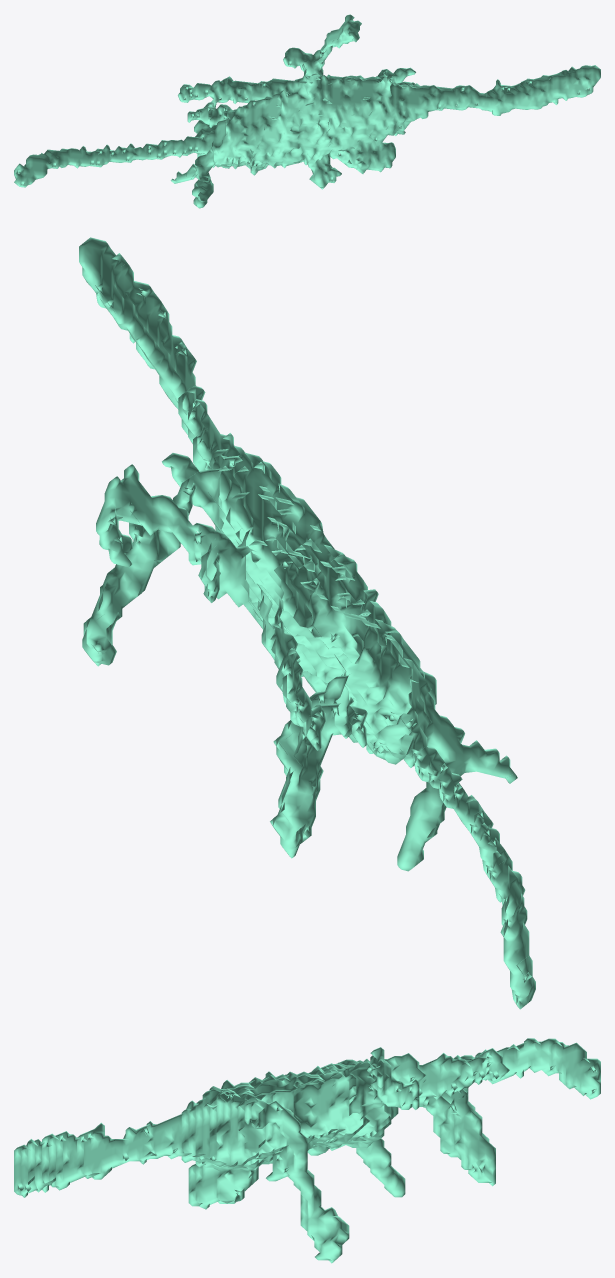
File: osteocyte_160.glb
3 renders of one model, top to bottom at view 1: azimuth 30°, elevation 25°; view 2: azimuth 150°, elevation 25°; view 3: azimuth 270°, elevation 25°, orthographic. The views are drawn at different scales.
Visible parts, largest first — view 1: osteocyte_160; view 2: osteocyte_160; view 3: osteocyte_160.
Boxes of the visible parts, left/top/right/bottom form: osteocyte_160: left=14, top=14, right=600, bottom=208; osteocyte_160: left=79, top=237, right=535, bottom=1009; osteocyte_160: left=14, top=1038, right=600, bottom=1263.
Bounding box in the file's own units: 52 × 19.74 × 40.44.
